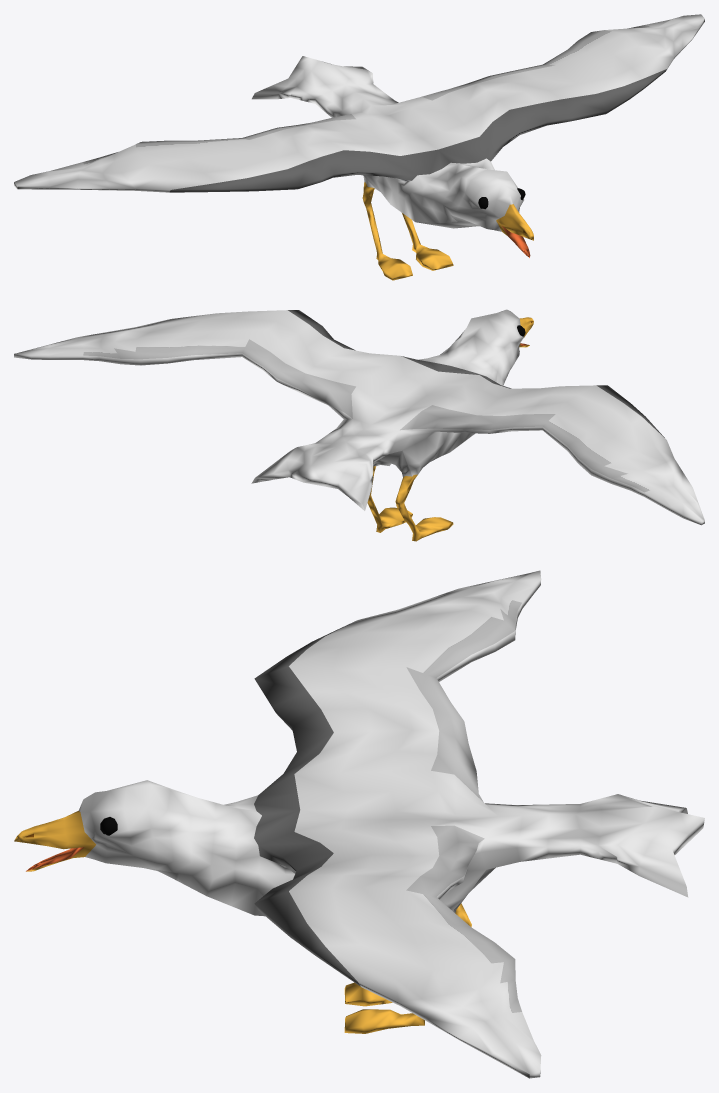
File: bird.glb
3 renders of one model, top to bottom at view 1: azimuth 30°, elevation 25°; view 2: azimuth 150°, elevation 25°; view 3: azimuth 270°, elevation 25°, orthographic. The views are drawn at different scales.
Parts seen in each view (by area): view 1: Sphere; view 2: Sphere; view 3: Sphere.
Boxes of the visible parts, x1,y1,x2,y2 form: Sphere: [14, 14, 704, 280]; Sphere: [14, 309, 704, 541]; Sphere: [14, 570, 704, 1078].
Bounding box in the file's own units: 3.32 × 0.7191 × 1.93.
Materials: 1 (1 with a texture image).
